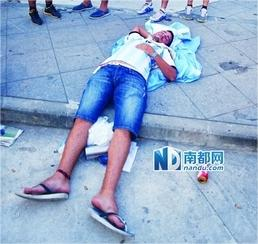down: (16, 23, 184, 244)
